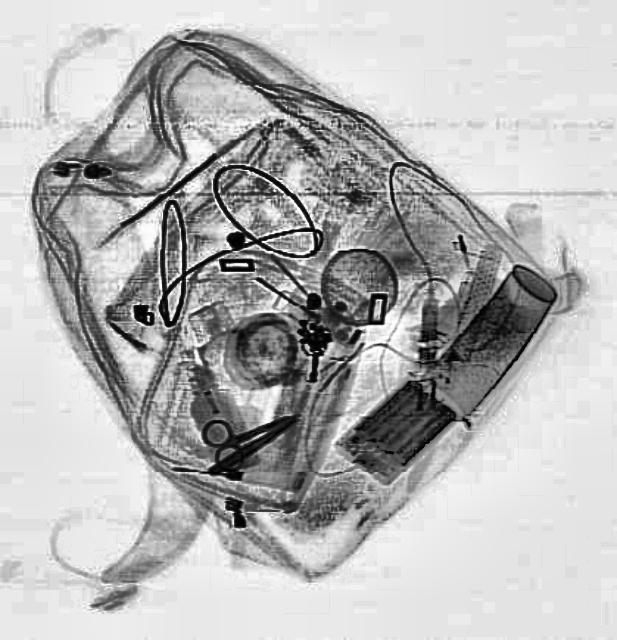Scissors: (197, 389, 309, 473)
